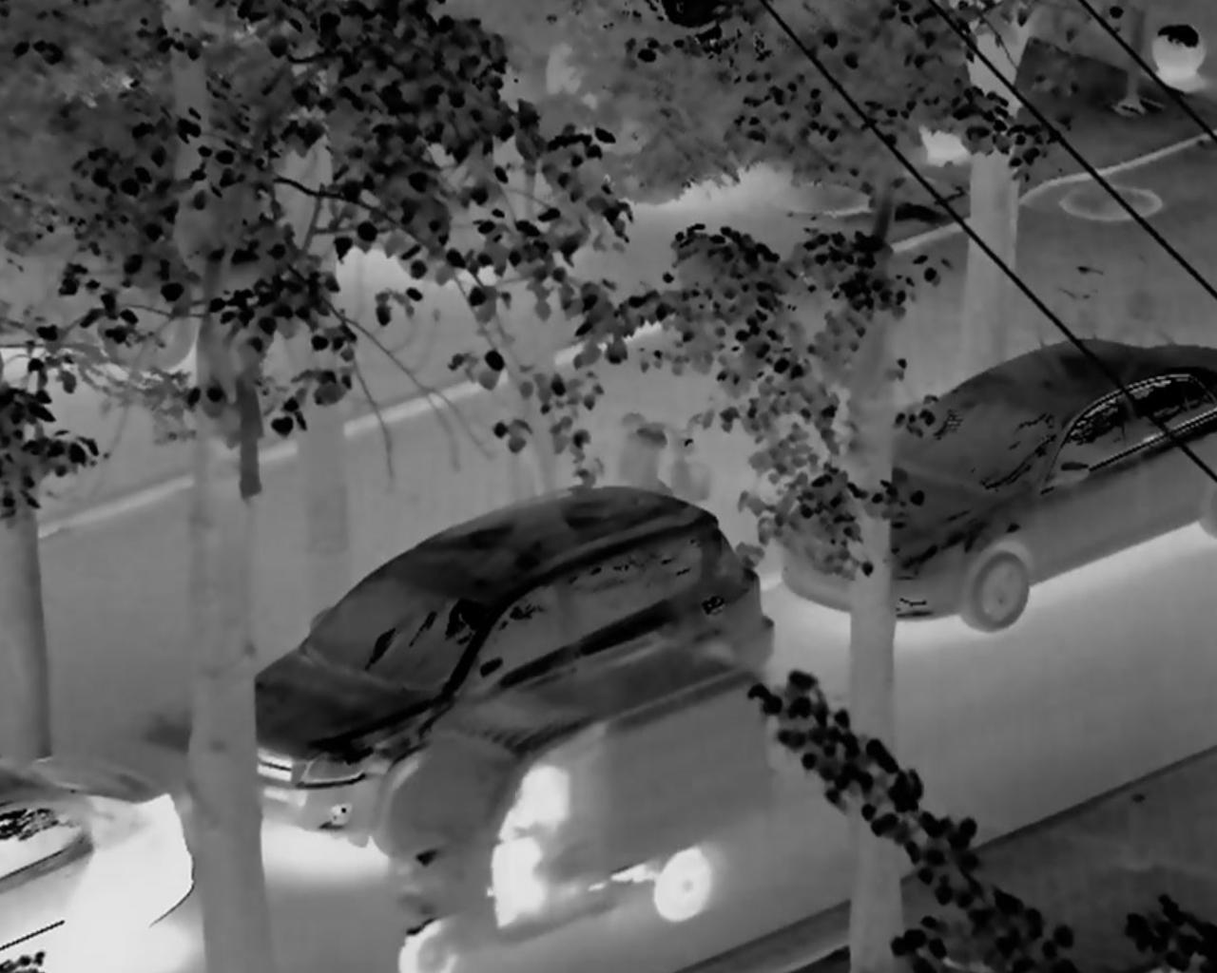person: (501, 760, 572, 929)
